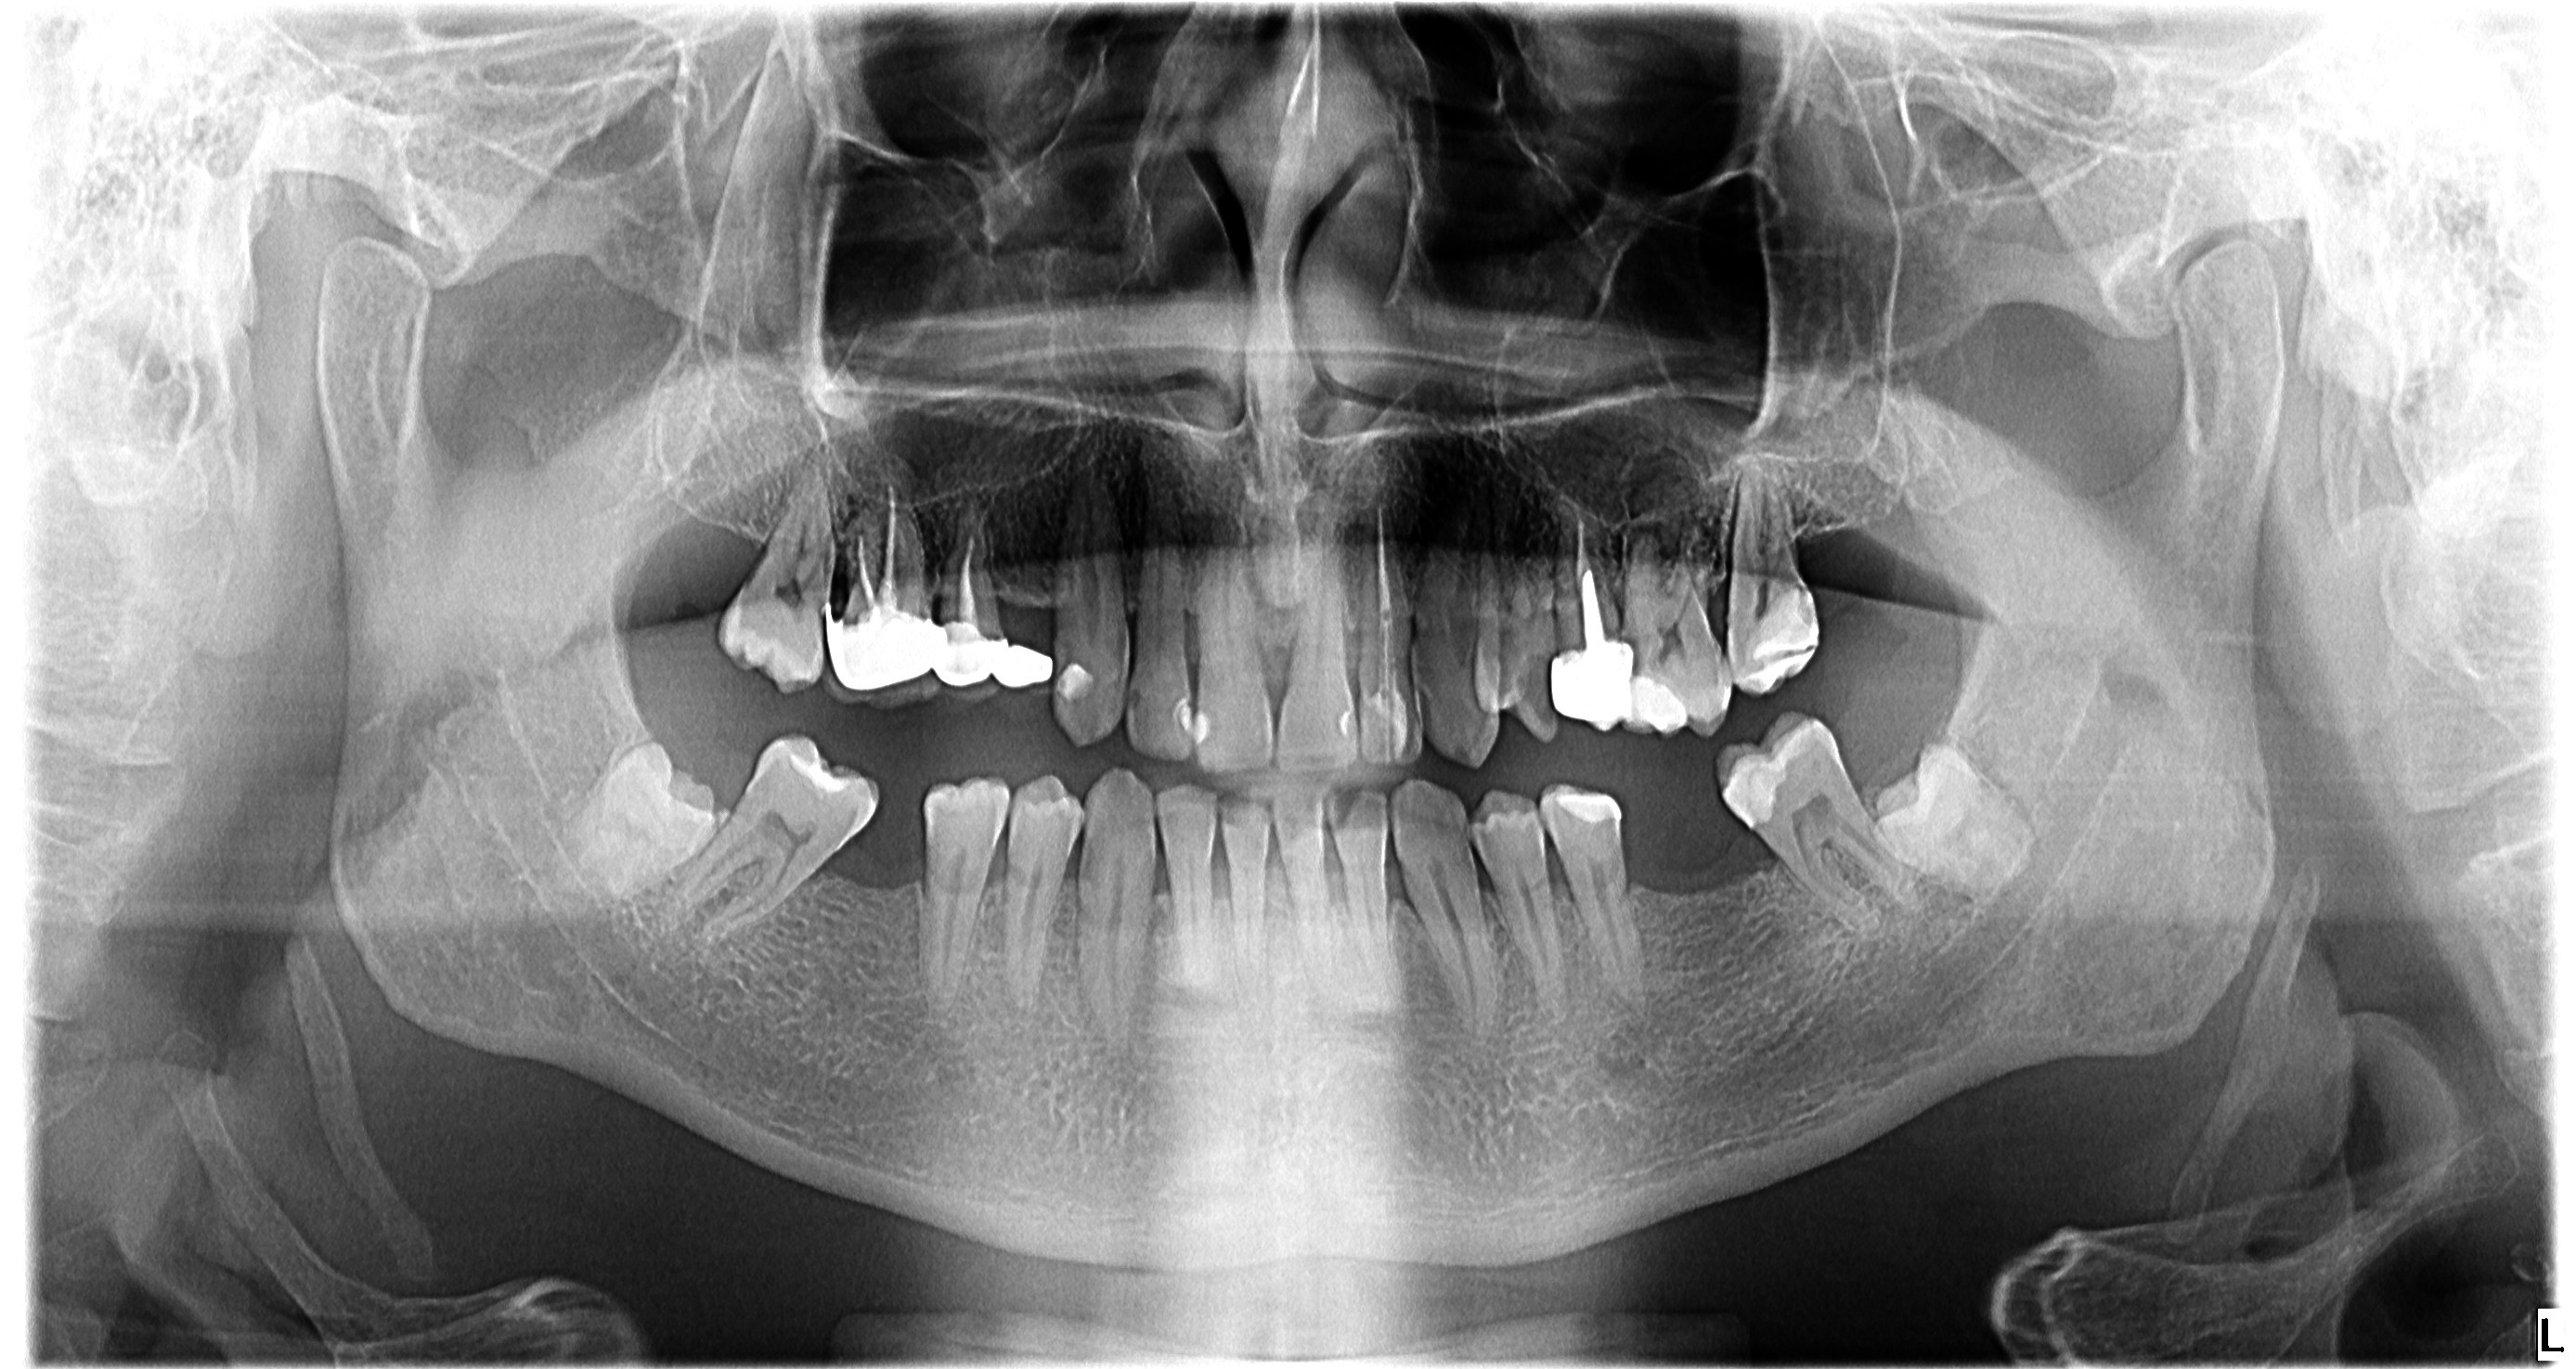API: (1605, 438, 1704, 536), (1601, 494, 1685, 572)
BON: (1244, 606, 1307, 691), (1365, 843, 1421, 935), (1303, 845, 1358, 925), (1256, 836, 1302, 923), (1196, 841, 1242, 928), (1170, 596, 1218, 674), (1334, 606, 1378, 686), (1140, 851, 1186, 918)
CAR: (1501, 642, 1567, 746), (1617, 627, 1668, 678), (1114, 683, 1157, 729)
END: (838, 475, 910, 615), (1559, 507, 1615, 647), (942, 497, 993, 640), (1366, 501, 1400, 688)
IMT: (508, 746, 748, 904), (1859, 729, 2053, 904)
OBT: (1733, 581, 1828, 712), (1707, 725, 1814, 838), (1610, 649, 1709, 744), (775, 734, 867, 805), (1537, 776, 1639, 839), (1349, 676, 1411, 780), (1041, 652, 1111, 717), (1189, 698, 1227, 759), (1319, 698, 1360, 749), (1169, 688, 1194, 748)
PRR: (809, 591, 1072, 744), (1538, 615, 1653, 744)
